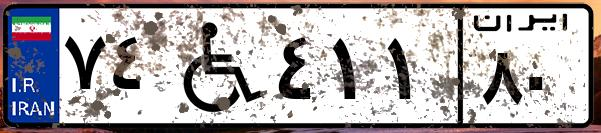0: (525, 38, 570, 115)
1: (385, 28, 445, 110), (330, 28, 385, 110)
4: (270, 28, 330, 110), (110, 28, 158, 98)
7: (57, 26, 110, 100)
8: (475, 38, 525, 113)
ژ (معلولین و جانبازان): (158, 12, 270, 120)
